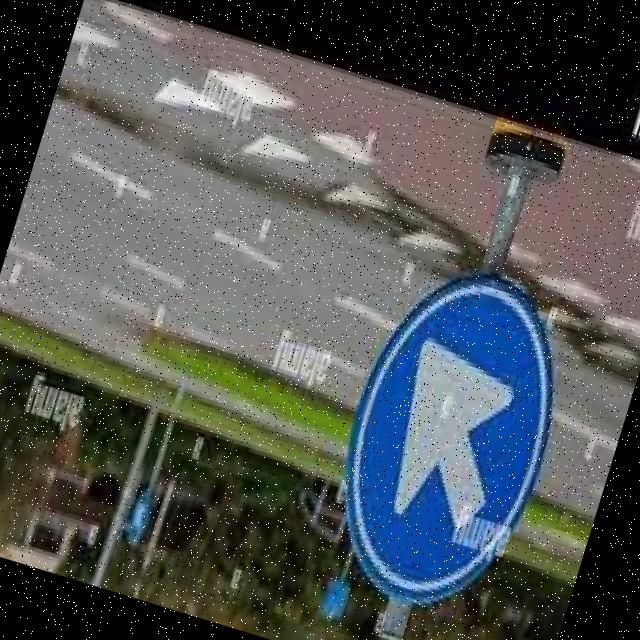compulsory_keep_right: (304, 247, 593, 636)
